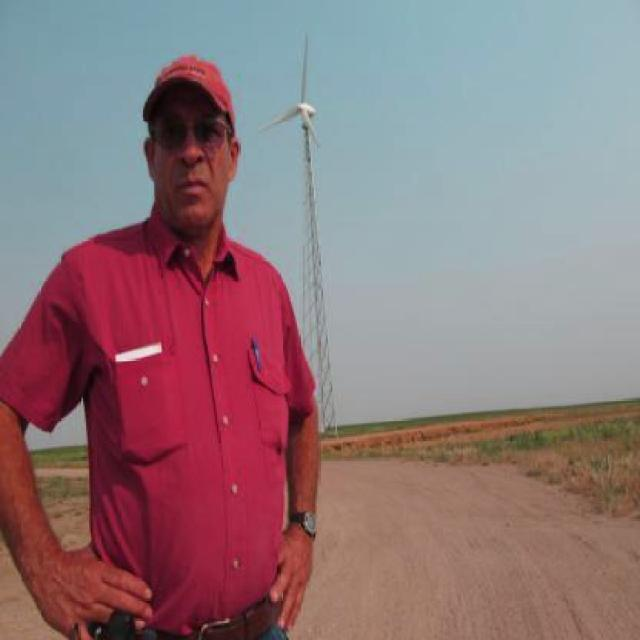face_nomask: (146, 115, 239, 210)
glasses: (141, 102, 228, 148)
hand_noglove: (28, 529, 164, 640), (252, 523, 336, 623)
head_helmet: (138, 51, 245, 120)
person: (0, 51, 328, 640)
